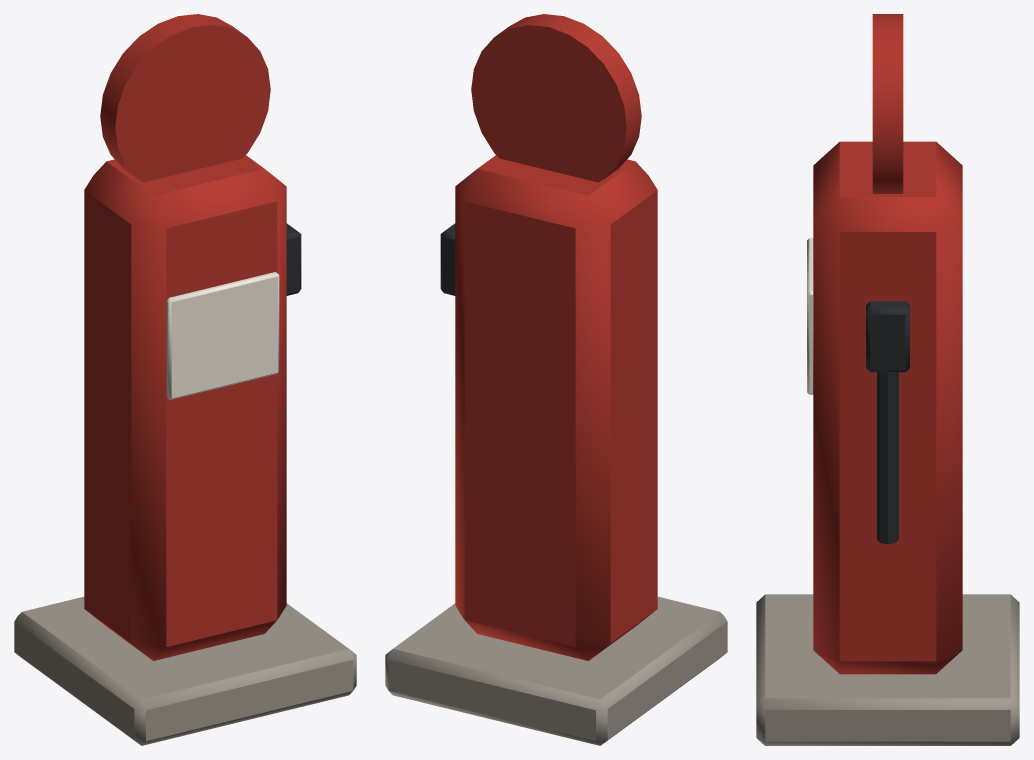
The model's file is surtidor.glb.
3 renders of one model, left to right at view 1: azimuth 30°, elevation 25°; view 2: azimuth 150°, elevation 25°; view 3: azimuth 270°, elevation 25°, orthographic. The views are drawn at different scales.
Visible parts, largest first — view 1: surtidor; view 2: surtidor; view 3: surtidor.
Part boxes in pixels (x1=…): surtidor: x1=14, y1=14, x2=356, y2=745; surtidor: x1=385, y1=14, x2=727, y2=745; surtidor: x1=756, y1=14, x2=1019, y2=745.
Bounding box in the file's own units: 0.6 × 1.69 × 0.6.
